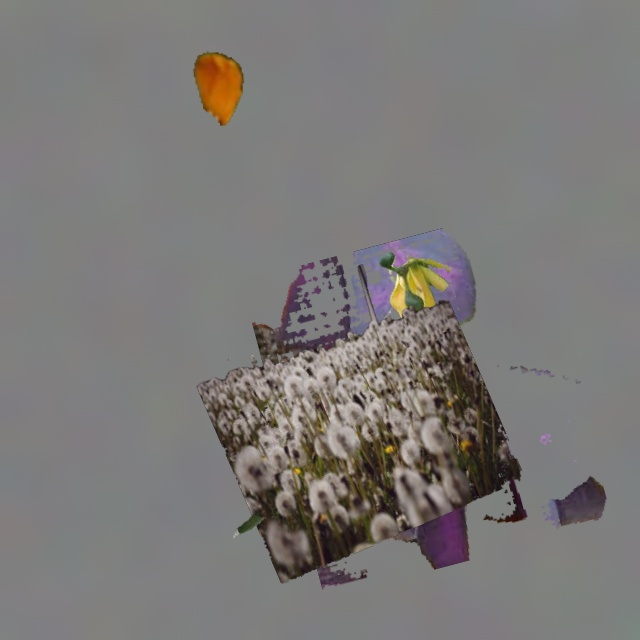butterfly flower: (252, 228, 606, 588)
dandelion: (197, 264, 521, 583)
wallflower: (194, 52, 243, 125)
ylang-ylang: (379, 252, 460, 357), (234, 514, 263, 537)
